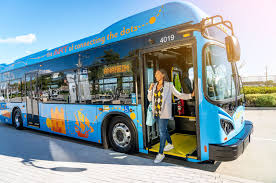bus: (1, 1, 254, 166)
